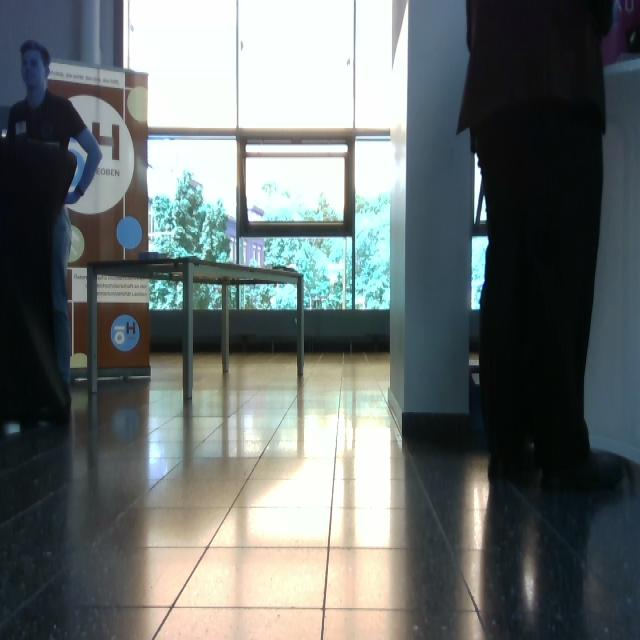light bulb: (116, 216, 143, 250), (127, 85, 148, 124), (68, 225, 86, 264)
person: (457, 1, 625, 492), (6, 40, 103, 392)
pillar: (389, 1, 474, 433)
table: (84, 254, 308, 405)
tiled floor: (2, 349, 639, 638)
window: (122, 1, 396, 316)
